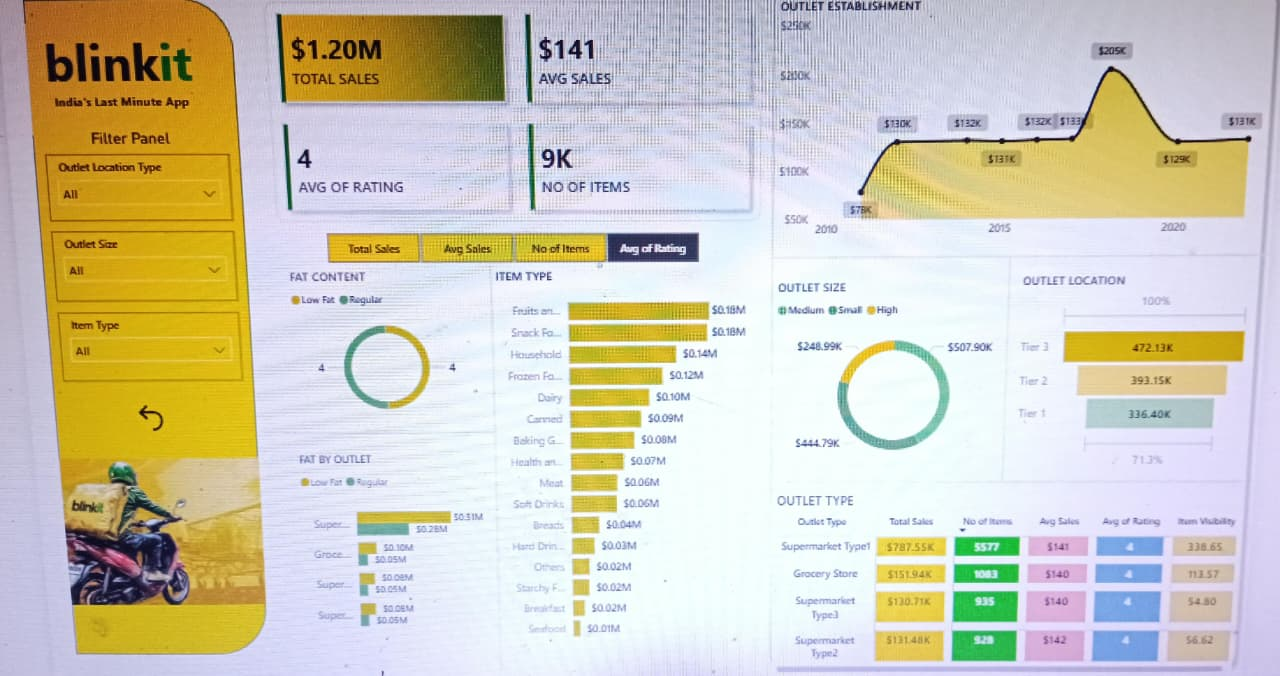

This screenshot's page, from the dashboard's own definition file:
{"tool":"powerbi","page":{"name":"Page 1","canvas":[1400,800],"ordinal":0},"visuals":[{"type":"shape","box":[28.3,17.3,226.8,749.6],"z":0},{"type":"textbox","box":[28.3,42.5,203.1,91.3],"z":1000},{"type":"textbox","box":[28.3,113.4,203.1,50.4],"z":2000},{"type":"cardVisual","fields":{"Data":["BlinkIT Grocery Data.Total Sales","BlinkIT Grocery Data.Avg Sales","BlinkIT Grocery Data.Avg of Rating","BlinkIT Grocery Data.No of Items"]},"box":[275.6,6.3,570.1,269.3],"z":3000},{"type":"shape","box":[834.6,0,565.4,800],"z":4000},{"type":"donutChart","title":" FAT CONTENT","fields":{"Y":["BlinkIT Grocery Data.Avg of Rating"],"Category":["BlinkIT Grocery Data.Item Fat Content"]},"box":[296.1,311.8,218.9,182.7],"z":5000},{"type":"slicer","fields":{"Values":["Matrics.Matrics"]},"box":[319.7,266.1,464.6,45.7],"z":6000},{"type":"clusteredBarChart","title":"FAT BY OUTLET","fields":{"Y":["BlinkIT Grocery Data.Total Sales"],"Category":["BlinkIT Grocery Data.Outlet Type"],"Series":["BlinkIT Grocery Data.Item Fat Content"]},"box":[296.1,524.4,218.9,229.9],"z":7000},{"type":"shape","box":[285,480.3,240.9,42.5],"z":8000},{"type":"shape","box":[489.8,308.7,72.4,491.3],"z":9000},{"type":"barChart","title":"ITEM TYPE","fields":{"Category":["BlinkIT Grocery Data.Item Type"],"Y":["BlinkIT Grocery Data.Total Sales"]},"box":[526,311.8,292.9,452],"z":10000},{"type":"lineChart","title":"OUTLET ESTABLISHMENT","fields":{"Y":["BlinkIT Grocery Data.Total Sales"],"Category":["BlinkIT Grocery Data.Outlet Establishment Year"]},"box":[845.7,17.3,541.7,270.9],"z":11000},{"type":"shape","box":[845.7,291.3,554.3,20.5],"z":12000},{"type":"donutChart","title":" OUTLET SIZE","fields":{"Y":["BlinkIT Grocery Data.Total Sales"],"Category":["BlinkIT Grocery Data.Outlet Size"]},"box":[845.7,326,275.6,225.2],"z":13000},{"type":"shape","box":[1100.8,302.4,20.5,261.4],"z":14000},{"type":"funnel","title":" OUTLET LOCATION","fields":{"Y":["Sum(BlinkIT Grocery Data.Sales)"],"Category":["BlinkIT Grocery Data.Outlet Location Type"]},"box":[1121.3,319.7,266.1,231.5],"z":15000},{"type":"shape","box":[845.7,551.2,541.7,23.6],"z":16000},{"type":"pivotTable","title":"OUTLET TYPE","fields":{"Rows":["BlinkIT Grocery Data.Outlet Type"],"Values":["BlinkIT Grocery Data.Total Sales","BlinkIT Grocery Data.No of Items","BlinkIT Grocery Data.Avg Sales","BlinkIT Grocery Data.Avg of Rating","Sum(BlinkIT Grocery Data.Item Visibility)"]},"box":[845.7,574.8,541.7,225.2],"z":17000},{"type":"slicer","fields":{"Values":["BlinkIT Grocery Data.Outlet Location Type"]},"box":[40.9,184.3,201.6,74],"z":18000},{"type":"slicer","fields":{"Values":["BlinkIT Grocery Data.Outlet Size"]},"box":[40.9,269.3,201.6,78.7],"z":19000},{"type":"slicer","fields":{"Values":["BlinkIT Grocery Data.Item Type"]},"box":[40.9,360.6,201.6,78.7],"z":20000},{"type":"textbox","box":[40.9,152.8,190.6,31.5],"z":21000},{"type":"actionButton","box":[107.1,459.8,59.8,42.5],"z":22000},{"type":"image","box":[28.3,467.7,226.8,299.2],"z":22001}]}

Visuals, with their boxes on the page's 1400x800 design canvas (x1, y1, x2, y2). These are canvas units, not pixel positions in the 1280x676 screenshot, which may show the page scaled, cropped or inside an application window:
shape: box(28, 17, 255, 767)
textbox: box(28, 42, 231, 134)
textbox: box(28, 113, 231, 164)
cardVisual - BlinkIT Grocery Data.Total Sales x BlinkIT Grocery Data.Avg Sales: box(276, 6, 846, 276)
shape: box(835, 0, 1400, 800)
" FAT CONTENT" donutChart: box(296, 312, 515, 494)
slicer - Matrics.Matrics: box(320, 266, 784, 312)
"FAT BY OUTLET" clusteredBarChart: box(296, 524, 515, 754)
shape: box(285, 480, 526, 523)
shape: box(490, 309, 562, 800)
"ITEM TYPE" barChart: box(526, 312, 819, 764)
"OUTLET ESTABLISHMENT" lineChart: box(846, 17, 1387, 288)
shape: box(846, 291, 1400, 312)
" OUTLET SIZE" donutChart: box(846, 326, 1121, 551)
shape: box(1101, 302, 1121, 564)
" OUTLET LOCATION" funnel: box(1121, 320, 1387, 551)
shape: box(846, 551, 1387, 575)
"OUTLET TYPE" pivotTable: box(846, 575, 1387, 800)
slicer - BlinkIT Grocery Data.Outlet Location Type: box(41, 184, 242, 258)
slicer - BlinkIT Grocery Data.Outlet Size: box(41, 269, 242, 348)
slicer - BlinkIT Grocery Data.Item Type: box(41, 361, 242, 439)
textbox: box(41, 153, 232, 184)
actionButton: box(107, 460, 167, 502)
image: box(28, 468, 255, 767)
